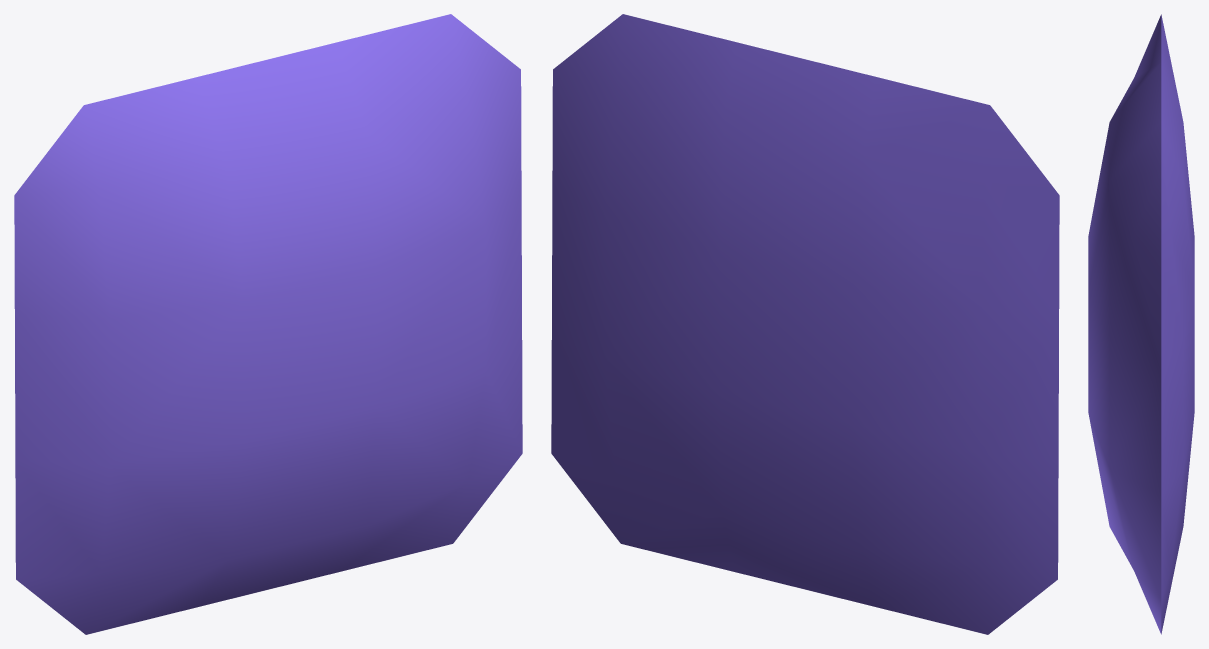
Rendered from PurpleCushion.glb.
The picture shows the model from 3 angles, left to right: view 1: azimuth 30°, elevation 25°; view 2: azimuth 150°, elevation 25°; view 3: azimuth 270°, elevation 25°; orthographic projection. The views are drawn at different scales.
Visible parts, largest first — view 1: cushion; view 2: cushion; view 3: cushion.
Part boxes in pixels (x1,y1,x2,y2): cushion: [14, 14, 522, 634]; cushion: [551, 14, 1059, 634]; cushion: [1088, 14, 1194, 634].
Bounding box in the file's own units: 0.6322 × 0.6322 × 0.1306.
Materials: 1 (1 with a texture image).
